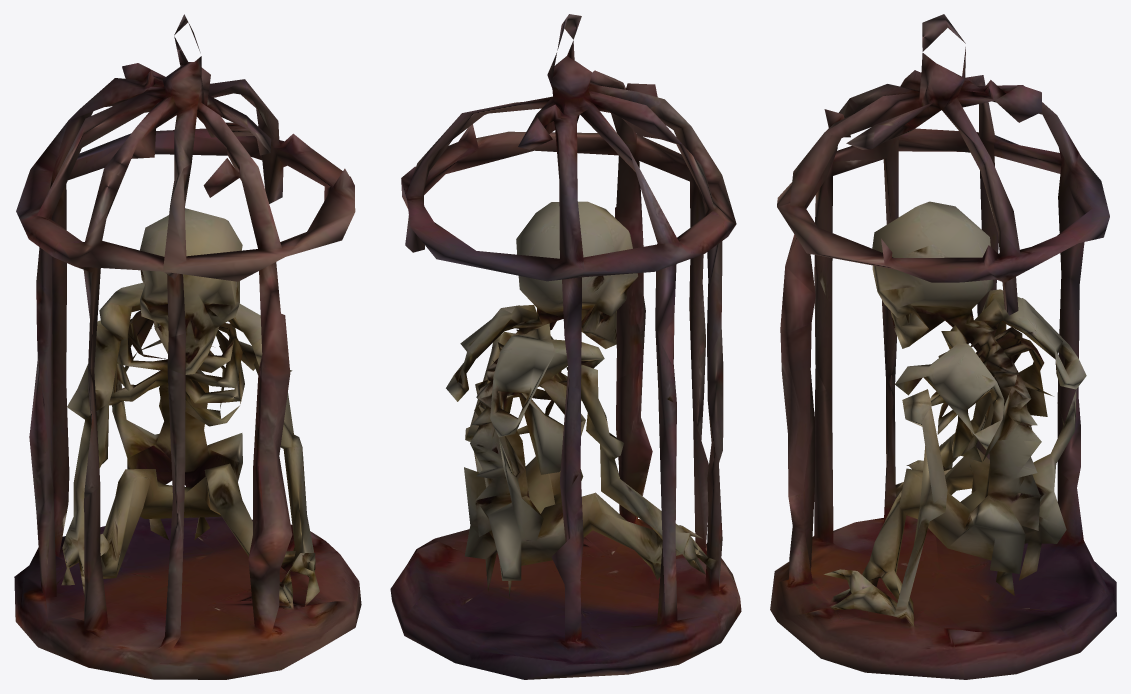
File: gibbet-cage.glb
The picture shows the model from 3 angles, left to right: view 1: azimuth 30°, elevation 25°; view 2: azimuth 150°, elevation 25°; view 3: azimuth 270°, elevation 25°; orthographic projection.
Parts seen in each view (by area): view 1: tripo_node_c65cc74f-2c4f-44c8-b1fa-804f81dcc86e; view 2: tripo_node_c65cc74f-2c4f-44c8-b1fa-804f81dcc86e; view 3: tripo_node_c65cc74f-2c4f-44c8-b1fa-804f81dcc86e.
Part boxes in pixels (x1,y1,x2,y2): tripo_node_c65cc74f-2c4f-44c8-b1fa-804f81dcc86e: [14, 14, 361, 679]; tripo_node_c65cc74f-2c4f-44c8-b1fa-804f81dcc86e: [390, 14, 741, 679]; tripo_node_c65cc74f-2c4f-44c8-b1fa-804f81dcc86e: [770, 14, 1116, 679].
Bounding box in the file's own units: 0.5315 × 1 × 0.5304.
Materials: 1 (1 with a texture image).
